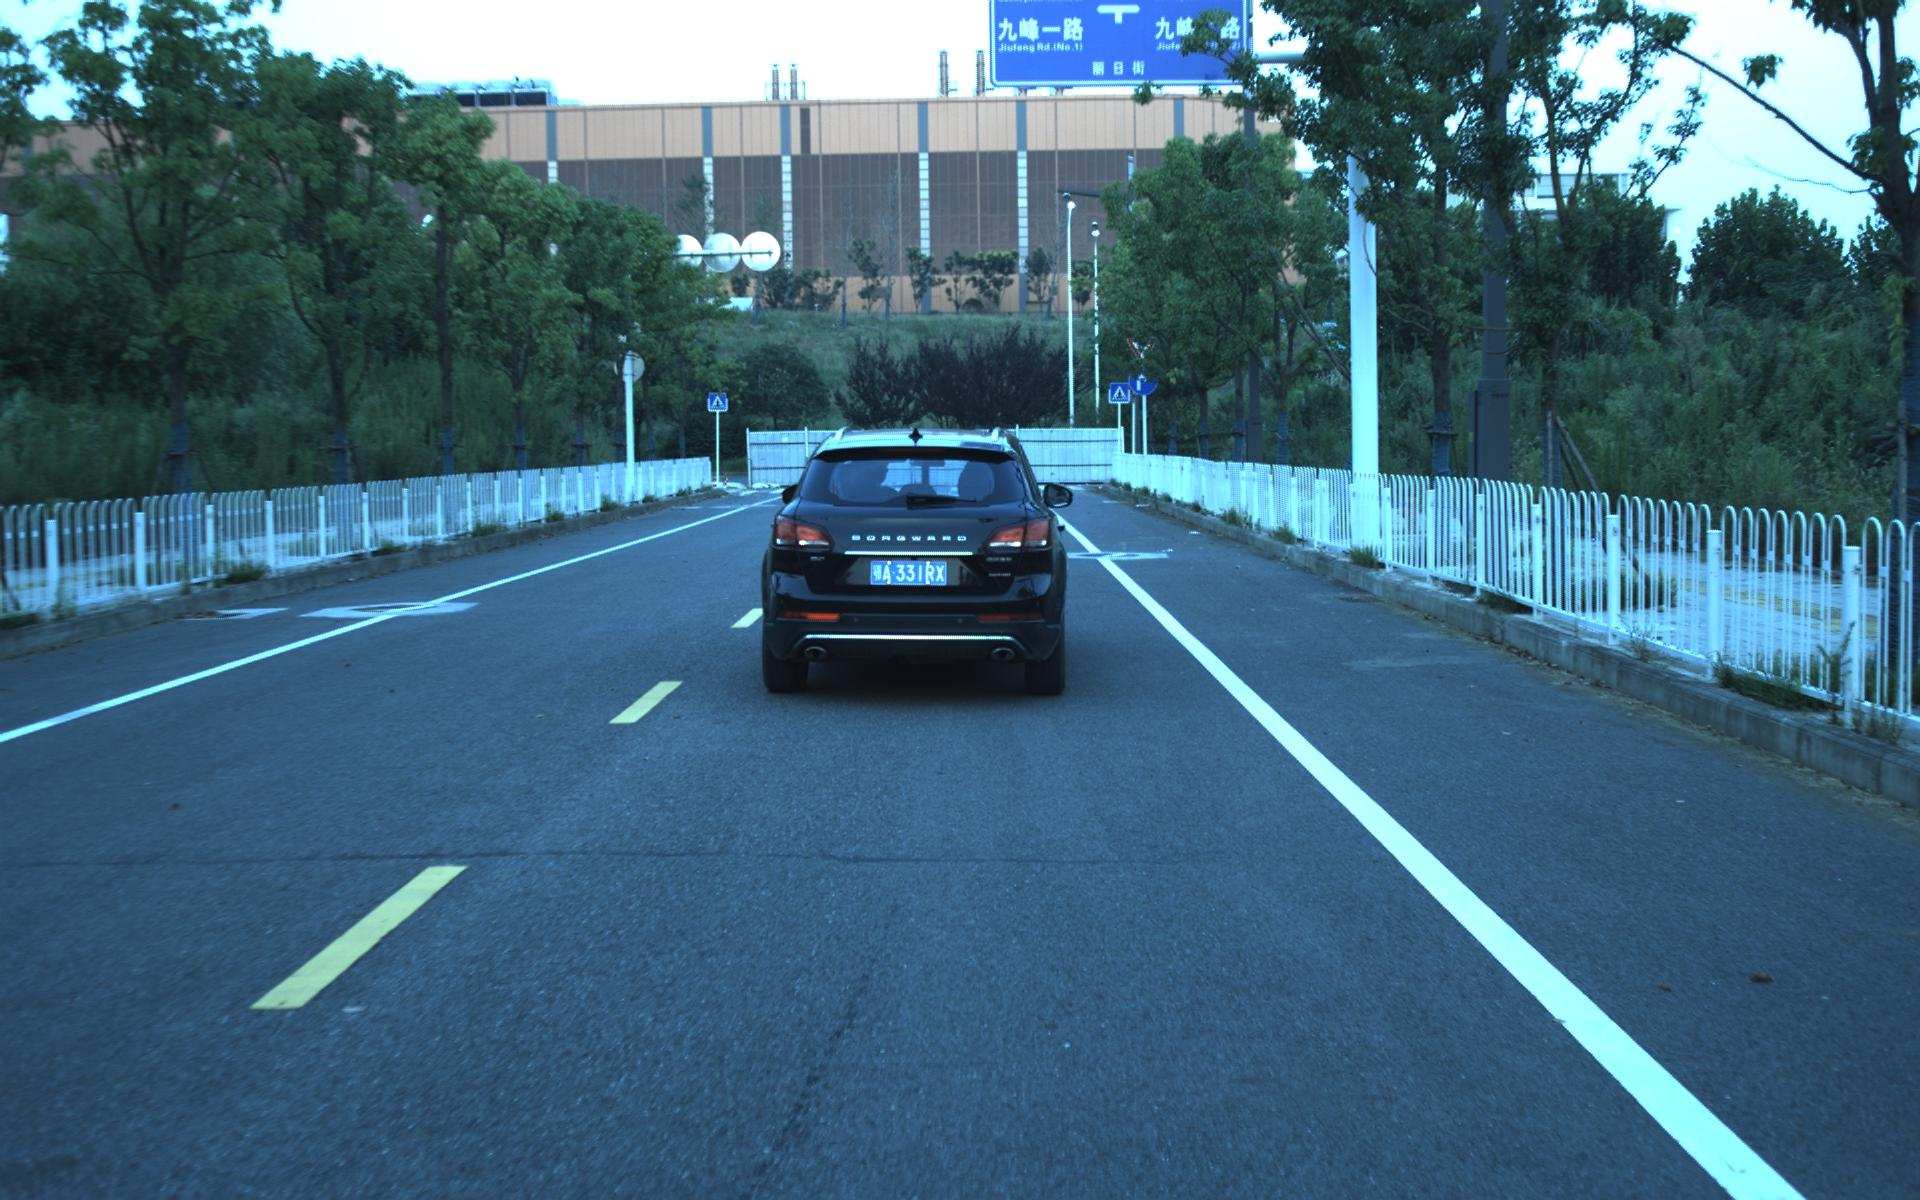Car: (753, 422, 1069, 700)
